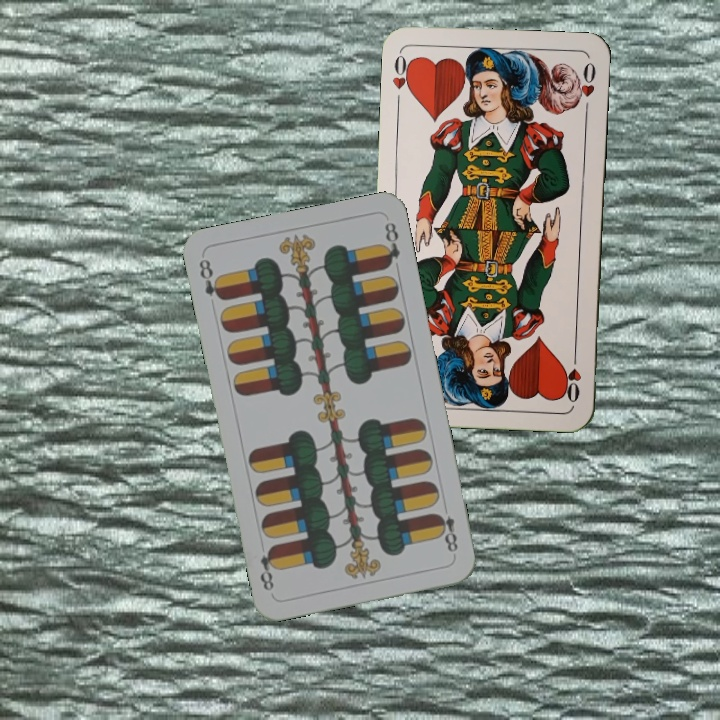E8: (195, 254, 226, 303), (432, 509, 461, 555)
HO: (388, 51, 416, 109), (561, 347, 584, 405)
